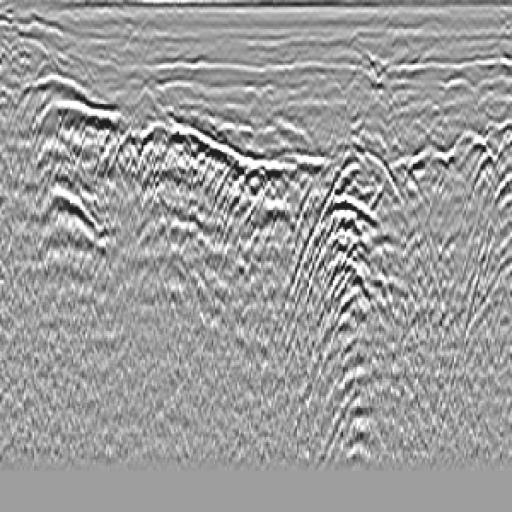metalic: (224, 111, 322, 266)
